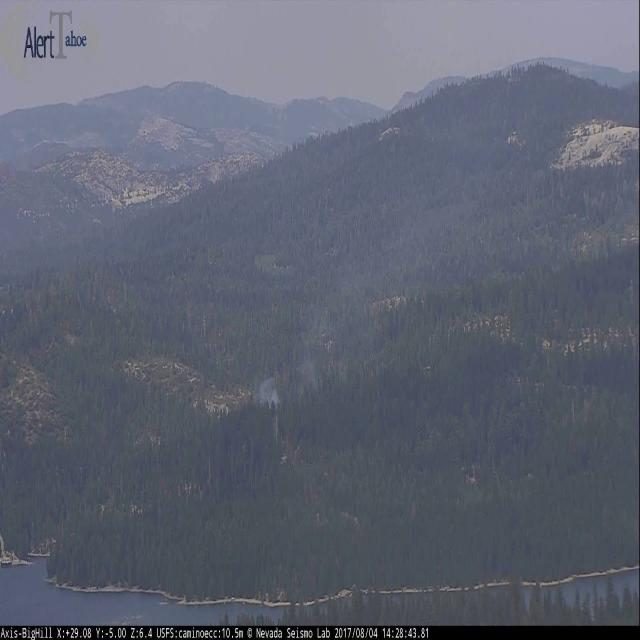smoke: (260, 375, 285, 412)
